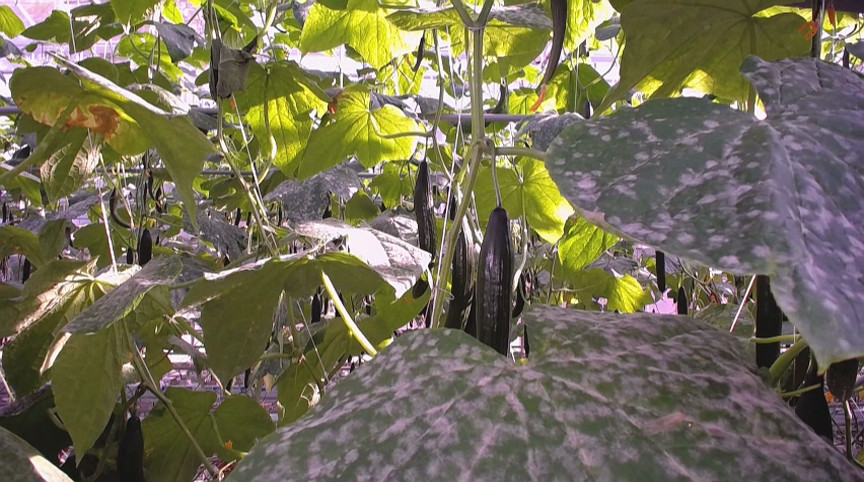cucumber: (478, 206, 516, 357), (444, 197, 477, 332), (792, 362, 840, 446), (413, 162, 436, 301), (756, 274, 781, 371), (119, 413, 145, 482), (137, 229, 153, 268)
